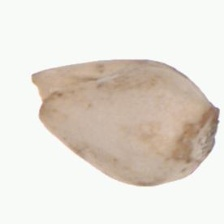L1: (192, 102, 220, 166), (30, 72, 51, 122)
L2: (31, 58, 219, 188)
